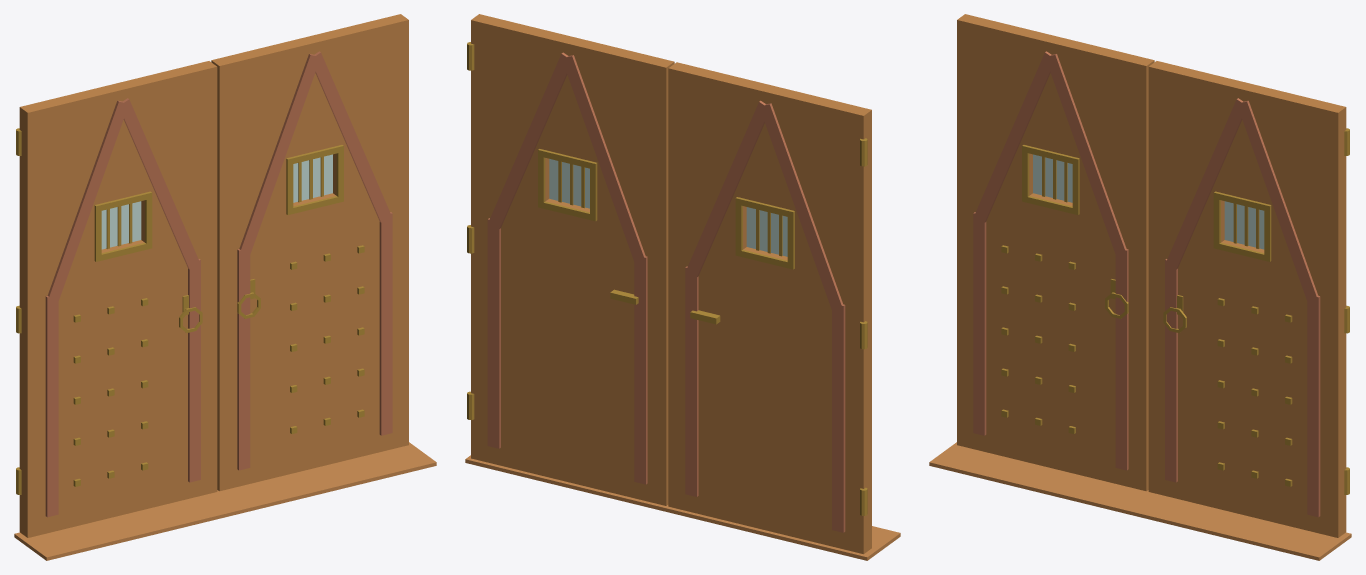
File: CatCafe_Door_ArchGate_Front.glb
3 views of the same model, side by side, from view 1: azimuth 30°, elevation 25°; view 2: azimuth 150°, elevation 25°; view 3: azimuth 330°, elevation 25° (orthographic). The views are drawn at different scales.
Visible parts, largest first — view 1: CatCafe_Door_ArchGate_Front_LeafR, CatCafe_Door_ArchGate_Front_LeafL, CatCafe_Door_ArchGate_Front, CatCafe_Door_ArchGate_Front_LeafL_Glass, CatCafe_Door_ArchGate_Front_LeafR_Glass; view 2: CatCafe_Door_ArchGate_Front_LeafR, CatCafe_Door_ArchGate_Front_LeafL, CatCafe_Door_ArchGate_Front, CatCafe_Door_ArchGate_Front_LeafR_Glass, CatCafe_Door_ArchGate_Front_LeafL_Glass; view 3: CatCafe_Door_ArchGate_Front_LeafL, CatCafe_Door_ArchGate_Front_LeafR, CatCafe_Door_ArchGate_Front, CatCafe_Door_ArchGate_Front_LeafL_Glass, CatCafe_Door_ArchGate_Front_LeafR_Glass.
Boxes of the visible parts, left/top/right/bottom form: CatCafe_Door_ArchGate_Front_LeafR: left=16, top=61, right=217, bottom=537; CatCafe_Door_ArchGate_Front_LeafL: left=211, top=14, right=408, bottom=491; CatCafe_Door_ArchGate_Front: left=14, top=442, right=436, bottom=560; CatCafe_Door_ArchGate_Front_LeafL_Glass: left=293, top=154, right=332, bottom=202; CatCafe_Door_ArchGate_Front_LeafR_Glass: left=101, top=201, right=141, bottom=249; CatCafe_Door_ArchGate_Front_LeafR: left=668, top=62, right=871, bottom=554; CatCafe_Door_ArchGate_Front_LeafL: left=467, top=14, right=674, bottom=505; CatCafe_Door_ArchGate_Front: left=465, top=455, right=900, bottom=560; CatCafe_Door_ArchGate_Front_LeafR_Glass: left=746, top=207, right=787, bottom=256; CatCafe_Door_ArchGate_Front_LeafL_Glass: left=549, top=159, right=589, bottom=208; CatCafe_Door_ArchGate_Front_LeafL: left=1148, top=61, right=1349, bottom=537; CatCafe_Door_ArchGate_Front_LeafR: left=957, top=14, right=1154, bottom=491; CatCafe_Door_ArchGate_Front: left=929, top=442, right=1351, bottom=560; CatCafe_Door_ArchGate_Front_LeafL_Glass: left=1224, top=201, right=1264, bottom=249; CatCafe_Door_ArchGate_Front_LeafR_Glass: left=1033, top=154, right=1072, bottom=202.
Bounding box in the file's own units: 6.96 × 7.33 × 1.09.
1 material, 1 textured.
